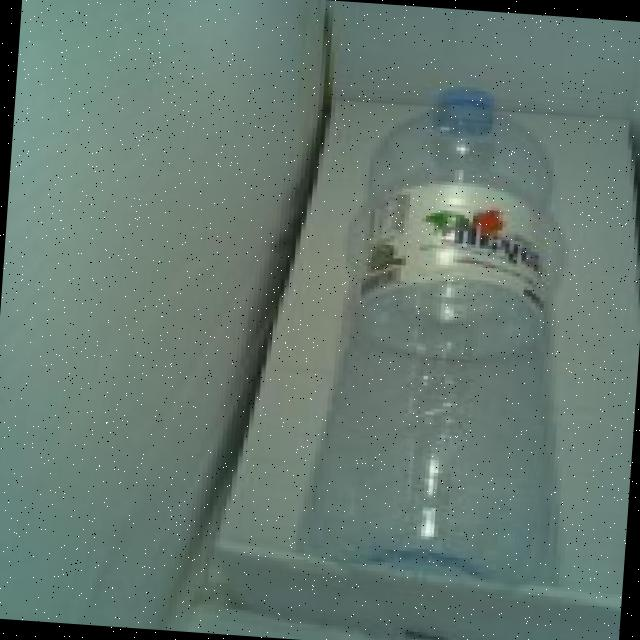bottle: (281, 54, 591, 614)
label: (320, 189, 560, 313)
